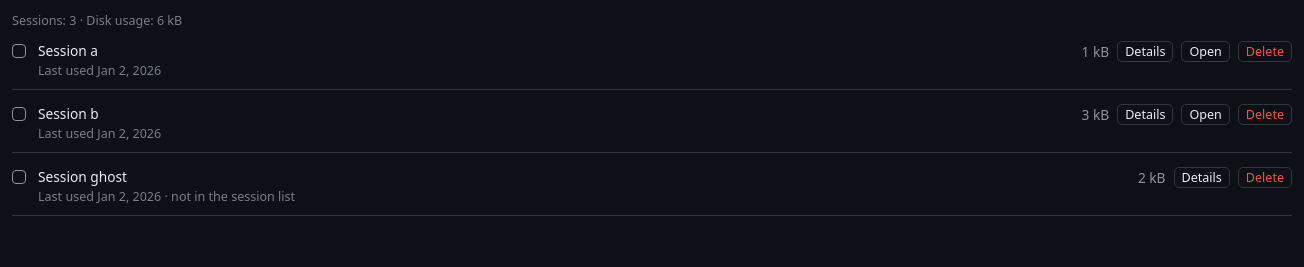
Test: what the sessions are using on disk › selects rows independently and deletes only the selected shown sessions
Click the checkbox named "Select Session a" at (19, 51), box [12, 44, 26, 58]
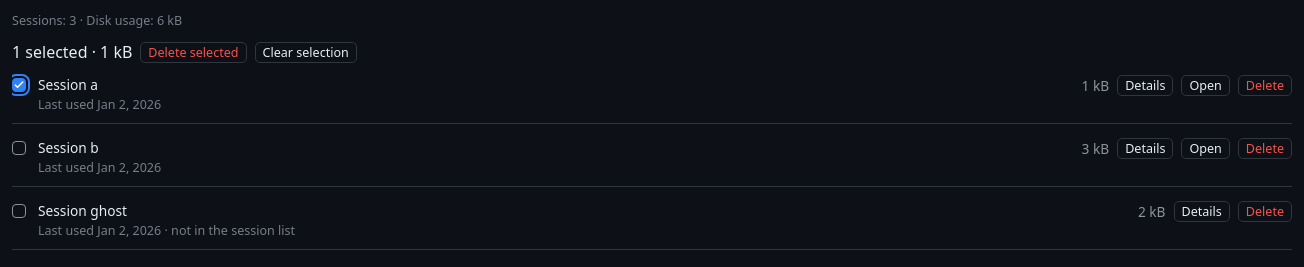
Click the checkbox named "Select Session ghost" at (19, 211), box [12, 204, 26, 218]
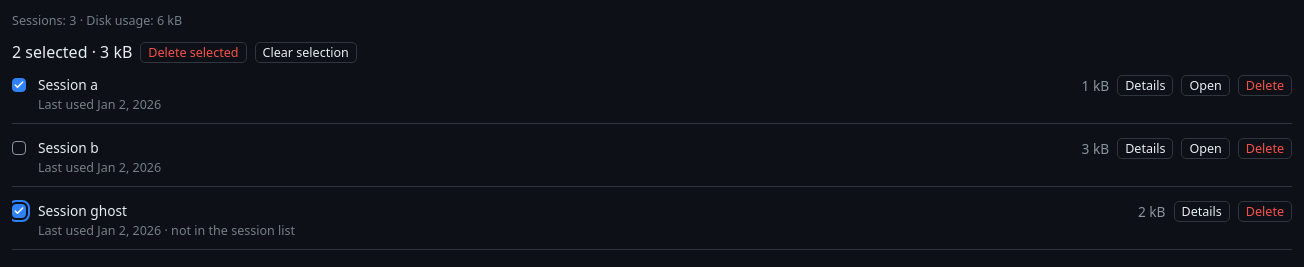
Check: the text "2 selected · 3 kB" is shown, box [12, 41, 132, 63]
Click the button "Delete selected" at (194, 52), box [140, 42, 247, 62]
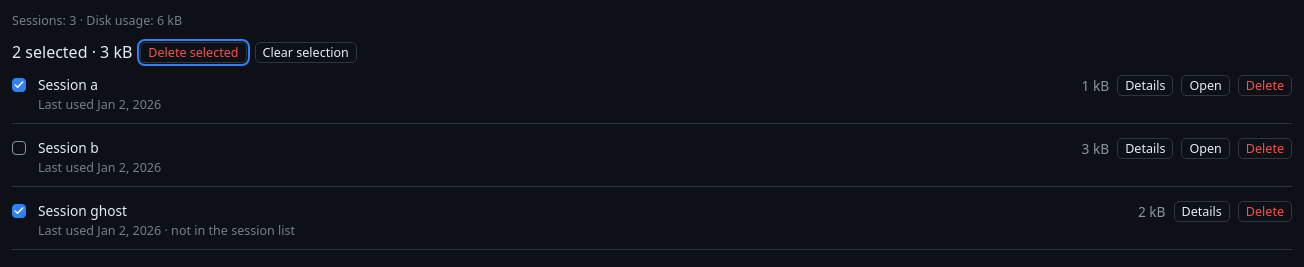
Click the button "Clear selection" at (306, 52), box [254, 42, 357, 62]
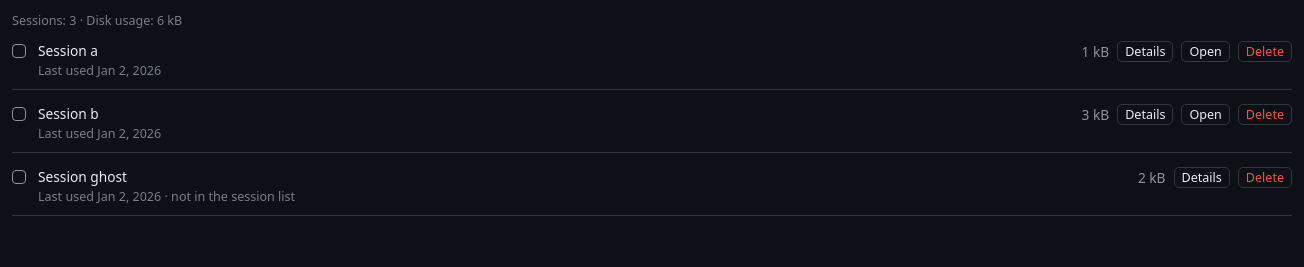
Check: the button "Delete selected" is gone
